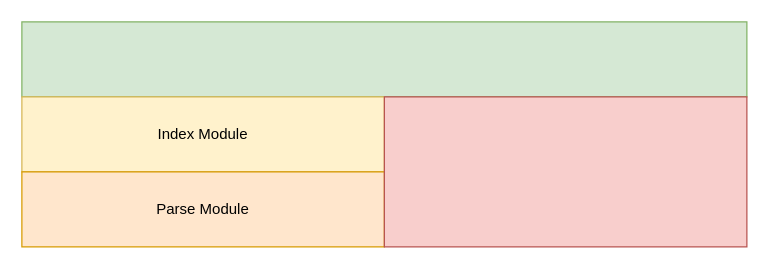
Some shapes in this 769 by 269 pixel diagram are drawn without their labels. Each missing label, with the centre of its shape:
"Query Module" belongs at (x=565, y=171).
"UI Layer" belongs at (x=384, y=59).
